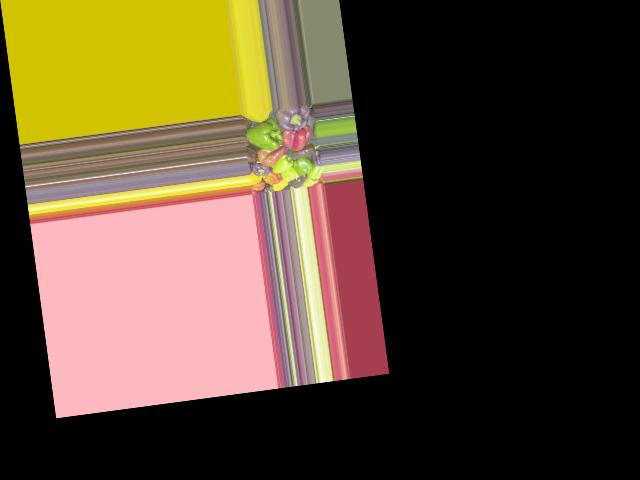bell_pepper: (249, 160, 271, 180)
